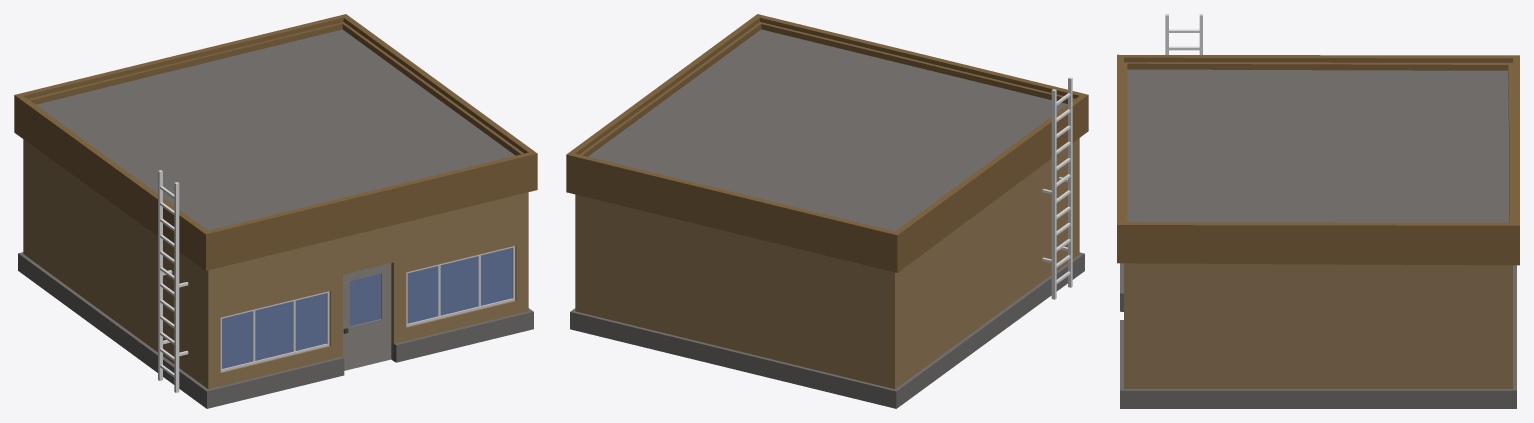
Rendered from House_16_Ladder.fbx.
The picture shows the model from 3 angles, left to right: view 1: azimuth 30°, elevation 25°; view 2: azimuth 150°, elevation 25°; view 3: azimuth 270°, elevation 25°; orthographic projection. The views are drawn at different scales.
Parts seen in each view (by area): view 1: House_16, Ladder.001; view 2: House_16, Ladder.001; view 3: House_16, Ladder.001.
Part boxes in pixels (<box>): House_16: <box>14,14,537,408</box>; Ladder.001: <box>158,170,188,392</box>; House_16: <box>566,14,1088,408</box>; Ladder.001: <box>1042,77,1072,299</box>; House_16: <box>1117,54,1519,408</box>; Ladder.001: <box>1165,14,1202,54</box>.
Bounding box in the file's own units: 7.21 × 4.3 × 7.06.
